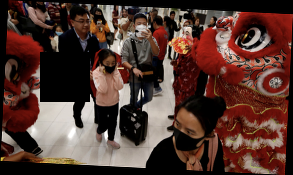with_mask: (171, 117, 204, 152), (102, 57, 118, 75), (134, 20, 147, 36), (180, 30, 192, 47), (94, 11, 102, 19), (54, 29, 63, 36), (182, 23, 189, 32)
without_mask: (73, 15, 92, 33), (121, 10, 127, 18), (209, 17, 215, 24), (194, 19, 200, 26), (168, 13, 175, 19), (115, 6, 119, 11)
